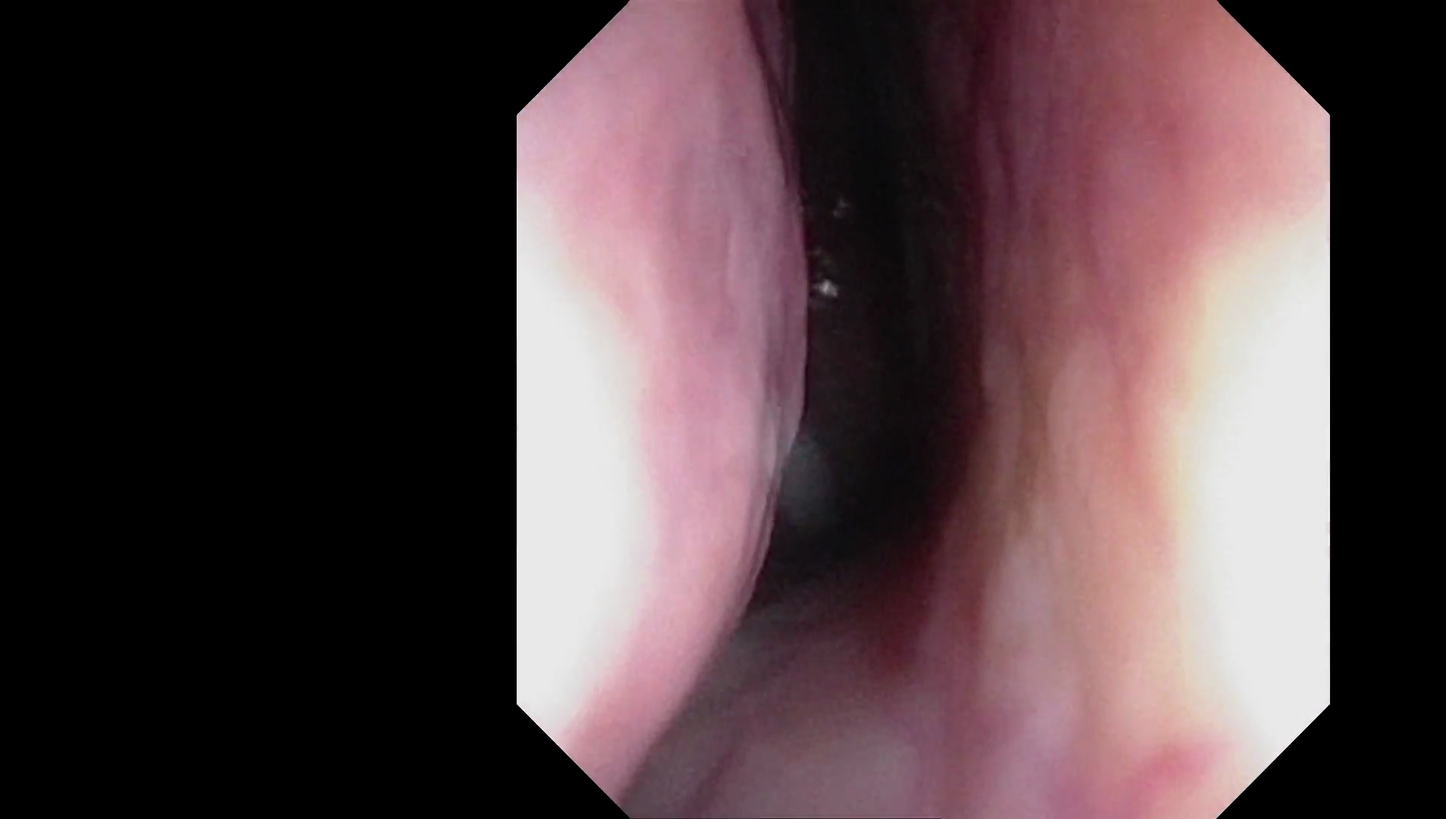close_wall: (1063, 157, 1318, 698), (524, 174, 724, 699)
next: (731, 4, 1031, 666)
